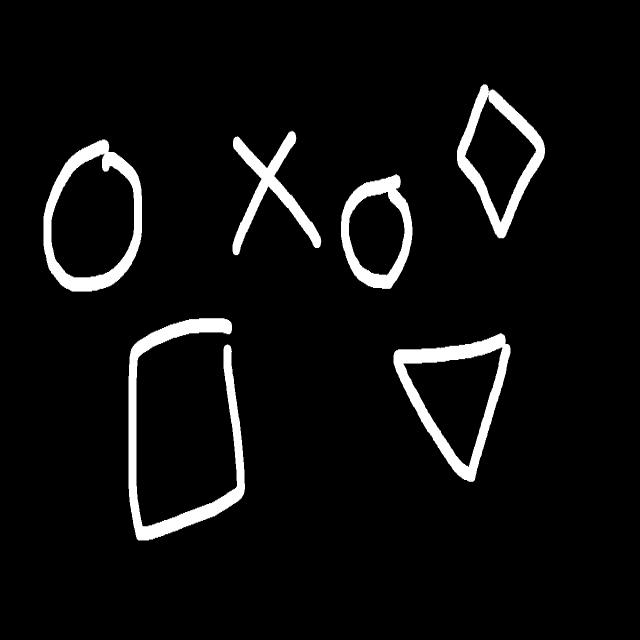Circle: (44, 140, 142, 291), (342, 176, 412, 288)
Cross: (234, 132, 321, 253)
Diamond: (457, 84, 544, 238)
Square: (128, 318, 244, 539)
Triangle: (394, 334, 510, 481)
